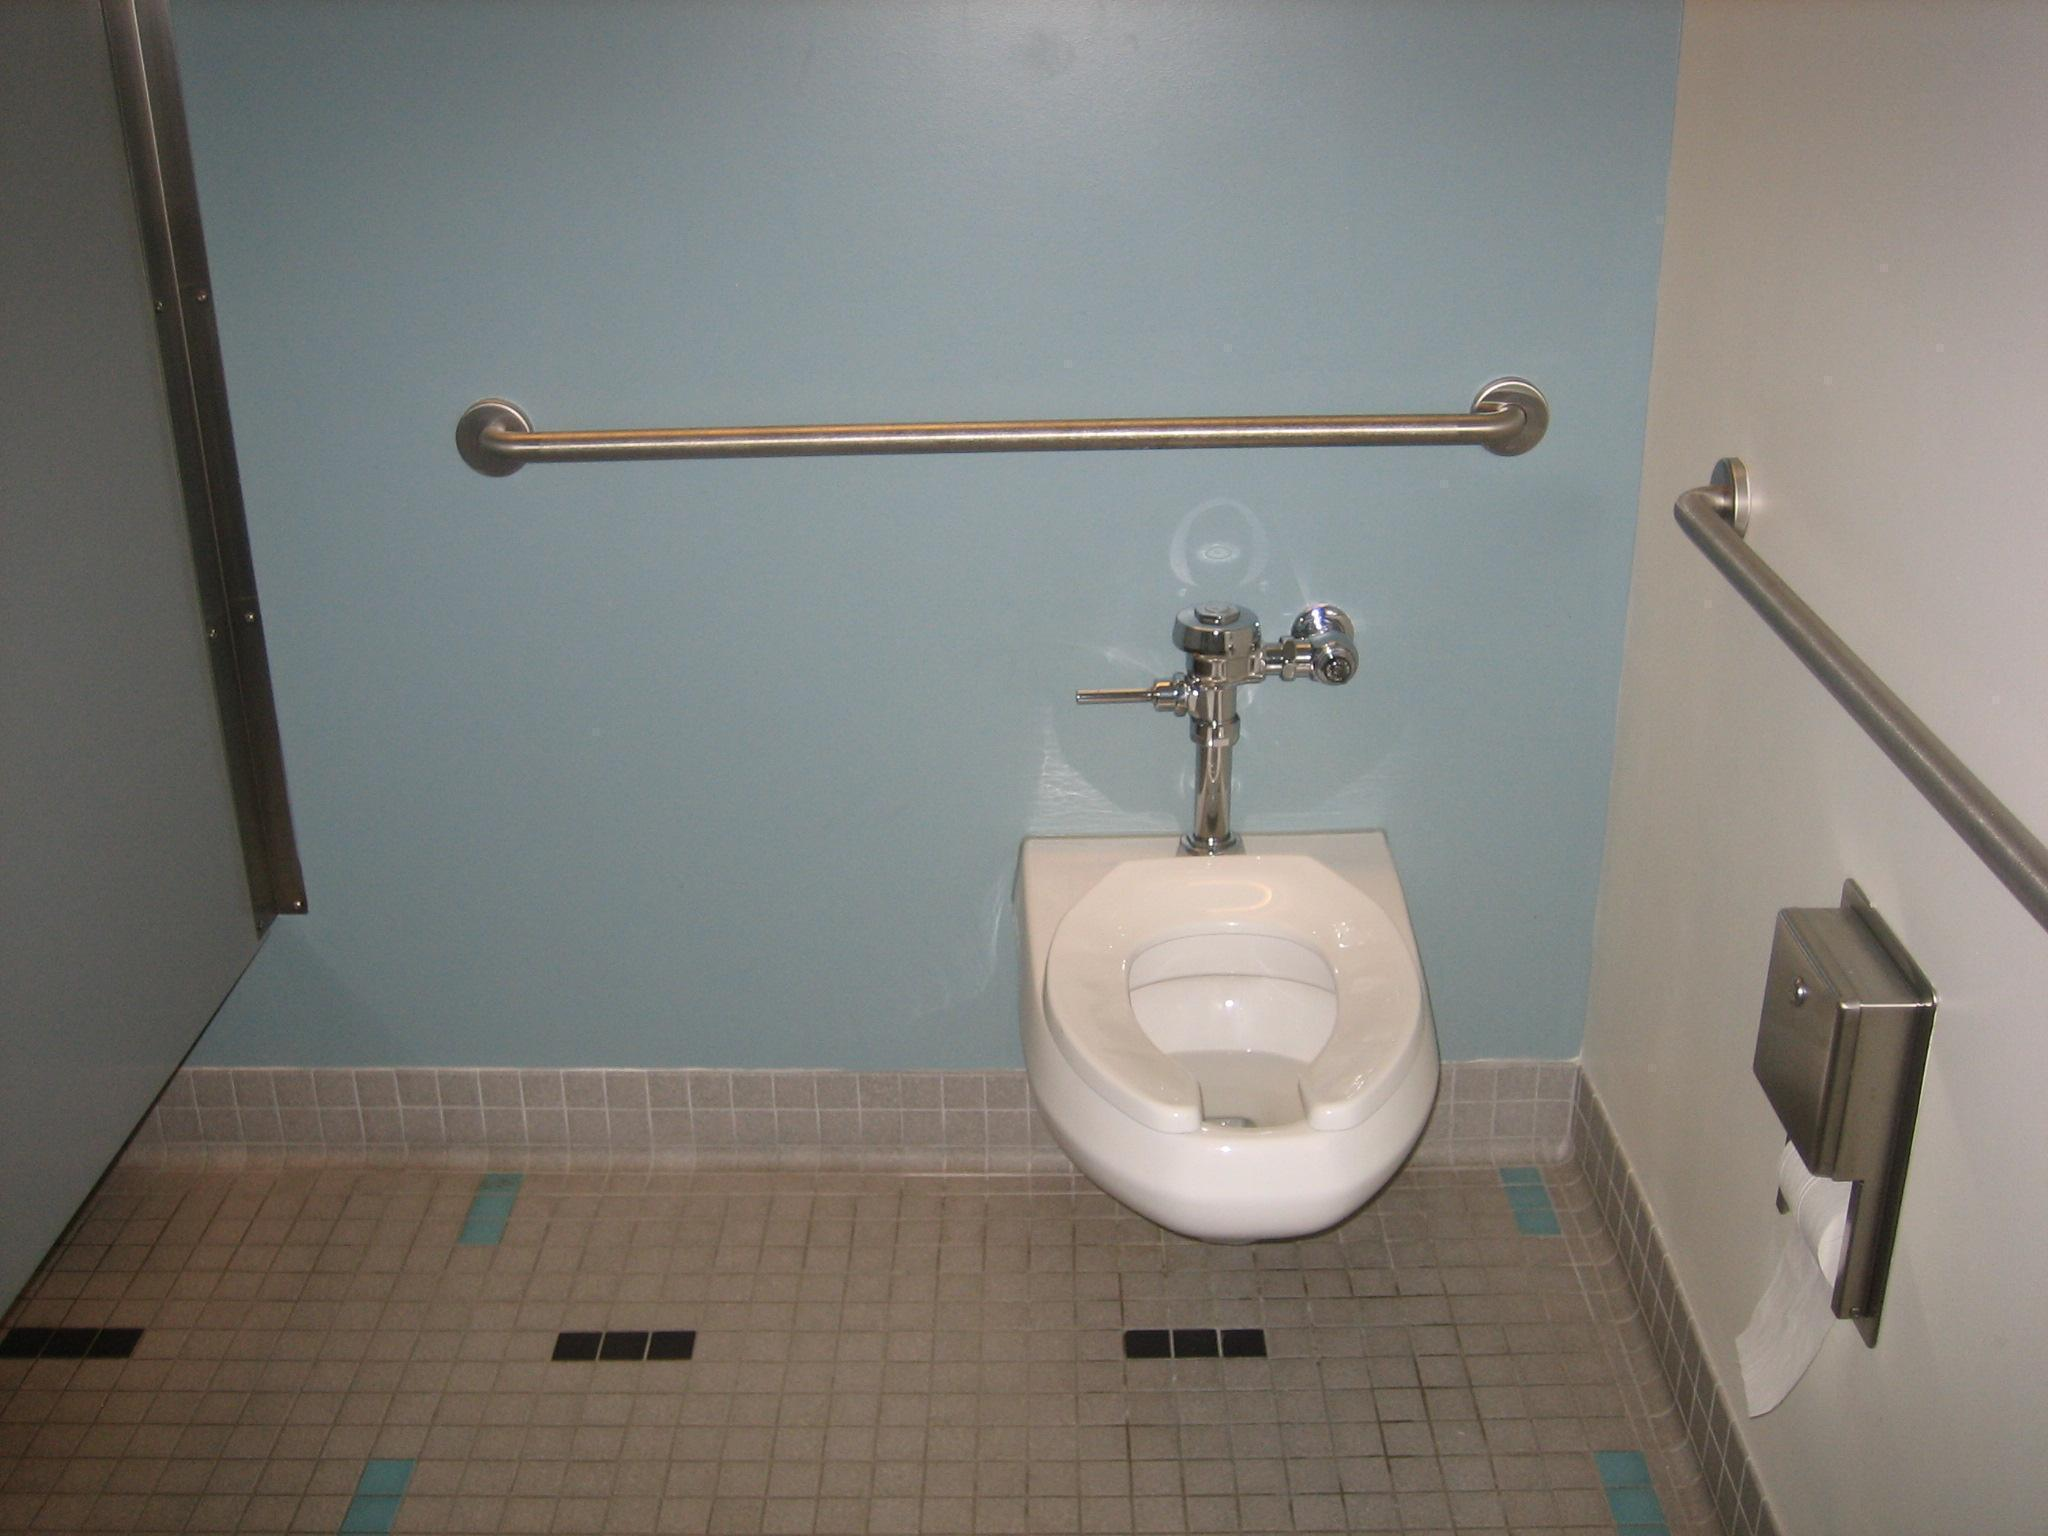Sanitario: (984, 566, 1476, 1276)
